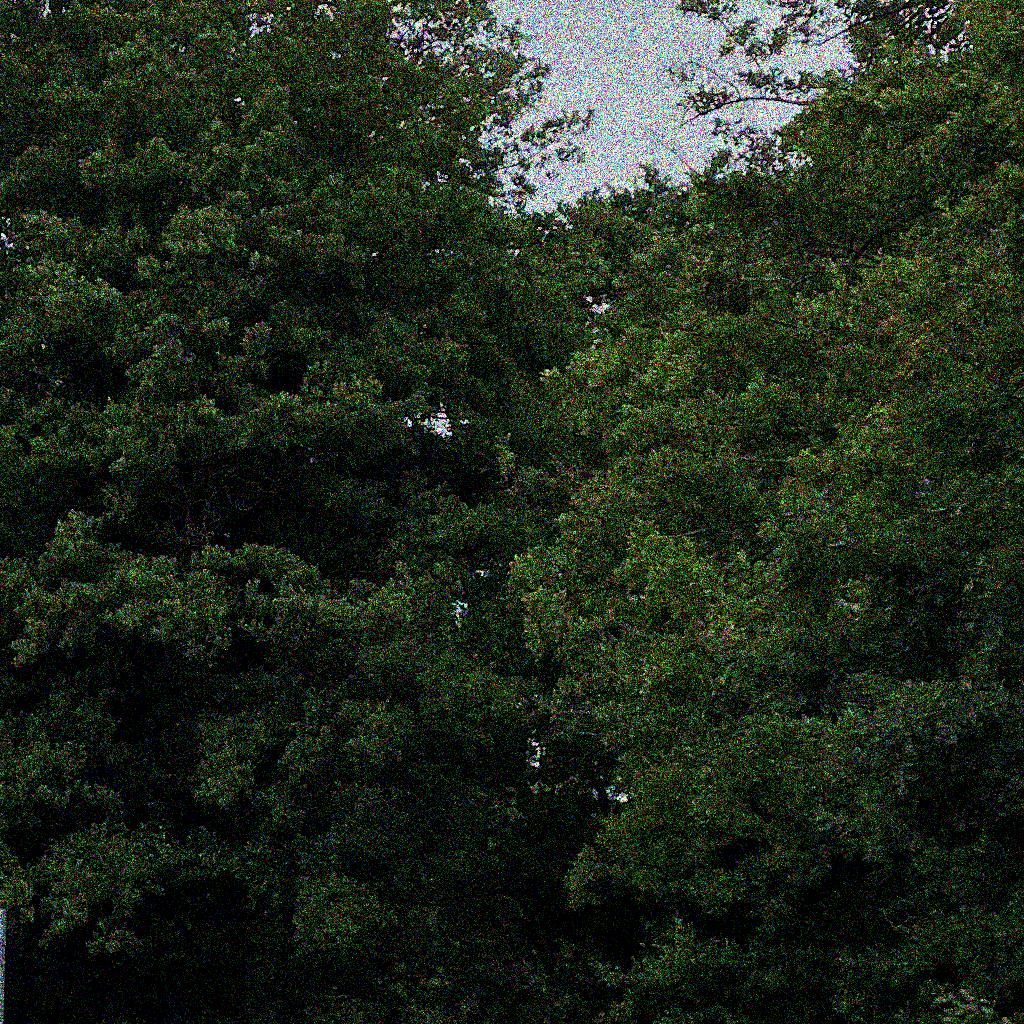tree: (1, 1, 597, 1023), (505, 1, 1024, 1024)
